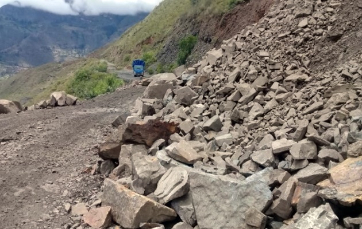stone: (185, 164, 277, 229), (93, 171, 180, 229), (315, 145, 362, 202), (122, 147, 171, 198), (121, 110, 179, 151), (311, 197, 345, 229), (141, 76, 176, 104), (249, 144, 282, 171), (233, 78, 258, 106), (199, 112, 229, 135), (269, 133, 298, 156), (1, 92, 23, 118), (48, 87, 68, 108), (204, 47, 226, 66), (296, 17, 313, 27)
